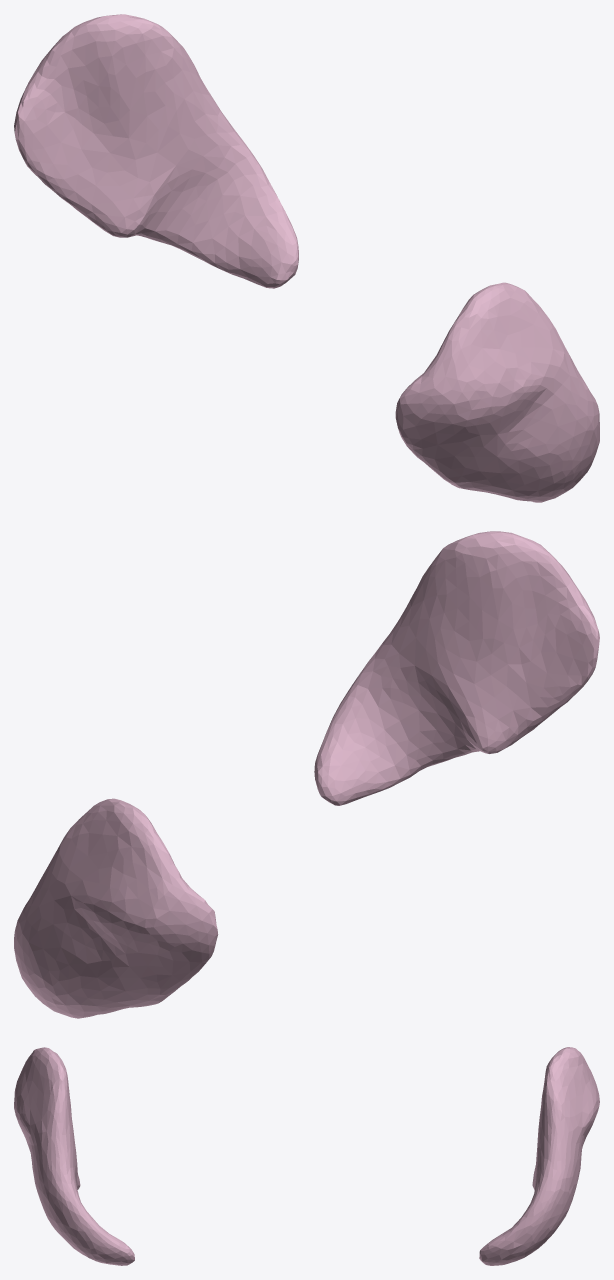
The picture shows the model from 3 angles, top to bottom: view 1: azimuth 30°, elevation 25°; view 2: azimuth 150°, elevation 25°; view 3: azimuth 270°, elevation 25°; orthographic projection. The views are drawn at different scales.
Parts seen in each view (by area): view 1: 607.obj; view 2: 607.obj; view 3: 607.obj.
Boxes of the visible parts, left/top/right/bottom form: 607.obj: left=14, top=14, right=599, bottom=502; 607.obj: left=14, top=531, right=599, bottom=1018; 607.obj: left=14, top=1047, right=599, bottom=1265.
Size of the model in its own units: 1905 by 2045 by 6066.
